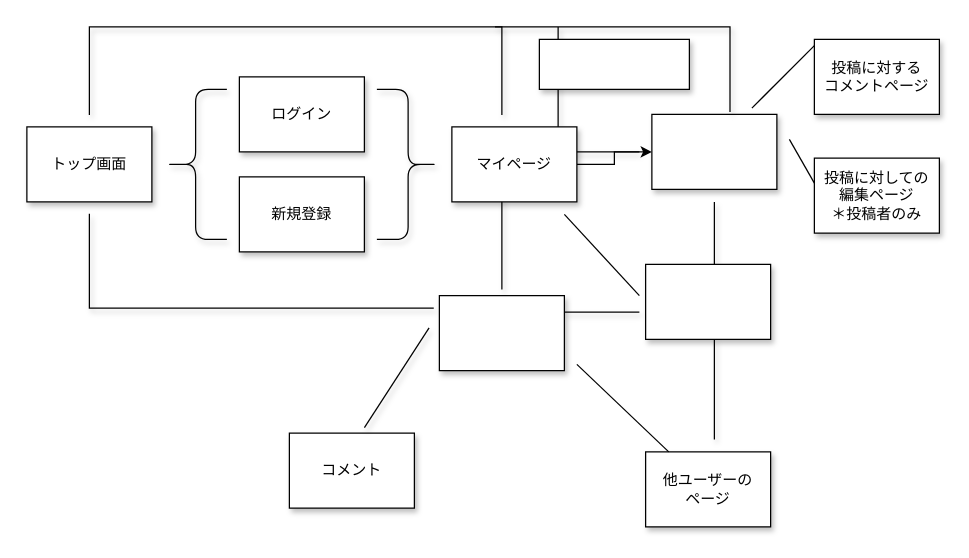
This 969x558 diagram has some shape labels left out. Each missing label, with the centre of its shape:
"プロフィール編集" goes at (615,65).
"他ユーザーの 投稿 （みんなの投稿）" goes at (502,334).
"各県投稿ページ" goes at (715,153).
"自分の投稿ページ" goes at (708,303).
